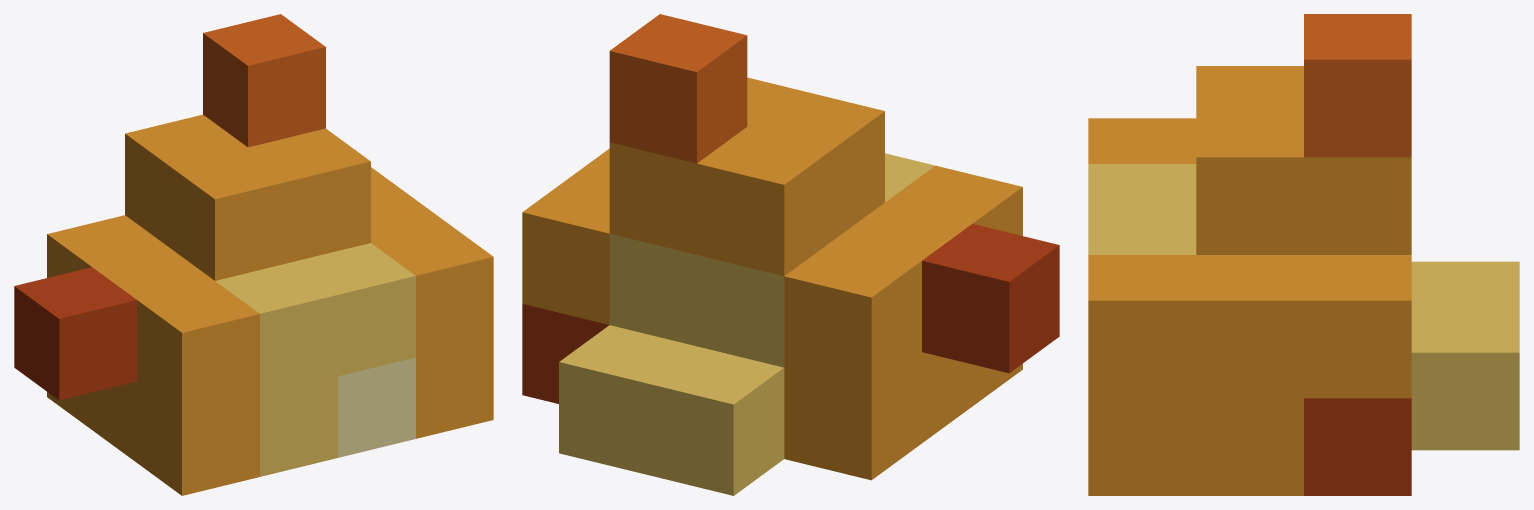
File: flame_06.glb
3 views of the same model, side by side, from view 1: azimuth 30°, elevation 25°; view 2: azimuth 150°, elevation 25°; view 3: azimuth 270°, elevation 25° (orthographic). The views are drawn at different scales.
Visible parts, largest first — view 1: flame_06; view 2: flame_06; view 3: flame_06.
Boxes of the visible parts, bbox=[...] form: flame_06: bbox=[14, 14, 493, 495]; flame_06: bbox=[522, 14, 1059, 495]; flame_06: bbox=[1088, 14, 1519, 495].
Bounding box in the file's own units: 0.625 × 0.5 × 0.5.
